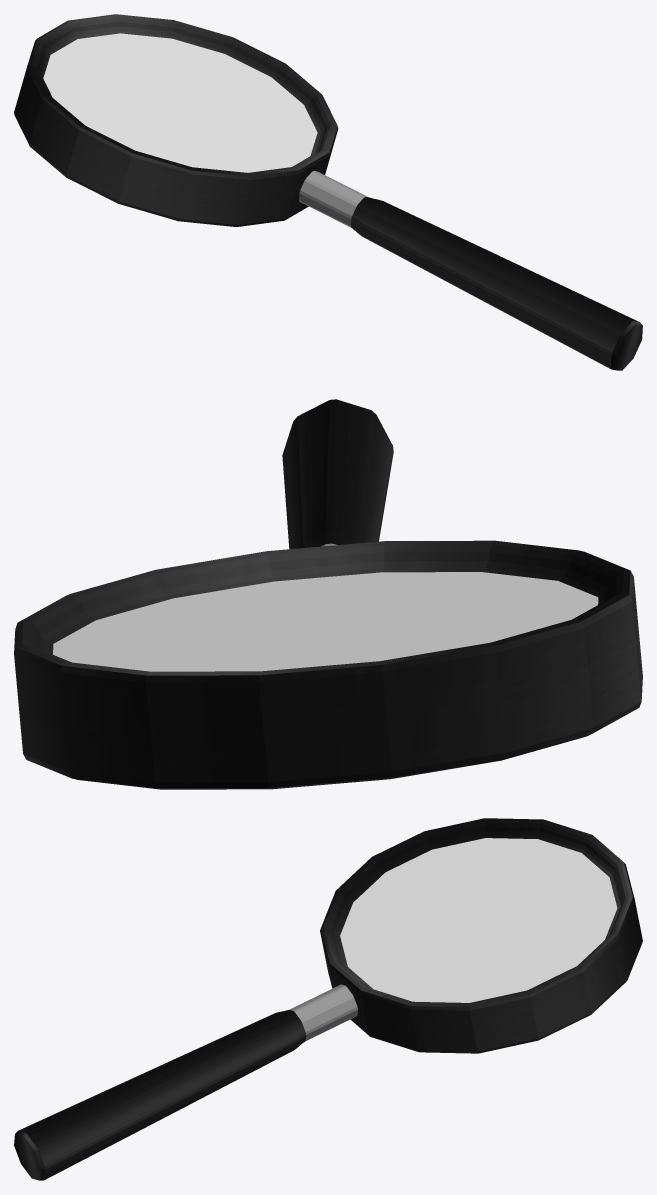
Rendered from MAGNIFYING_GLASS.fbx.
3 renders of one model, top to bottom at view 1: azimuth 30°, elevation 25°; view 2: azimuth 150°, elevation 25°; view 3: azimuth 270°, elevation 25°, orthographic. The views are drawn at different scales.
Parts seen in each view (by area): view 1: MAGNIFYING GLASS; view 2: MAGNIFYING GLASS; view 3: MAGNIFYING GLASS.
Boxes of the visible parts, <box> form: MAGNIFYING GLASS: <box>14,14,642,370</box>; MAGNIFYING GLASS: <box>14,399,642,789</box>; MAGNIFYING GLASS: <box>14,818,642,1180</box>.
Bounding box in the file's own units: 7.64 × 3.79 × 10.91.
